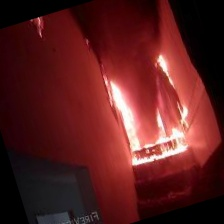fire: (97, 45, 199, 172)
